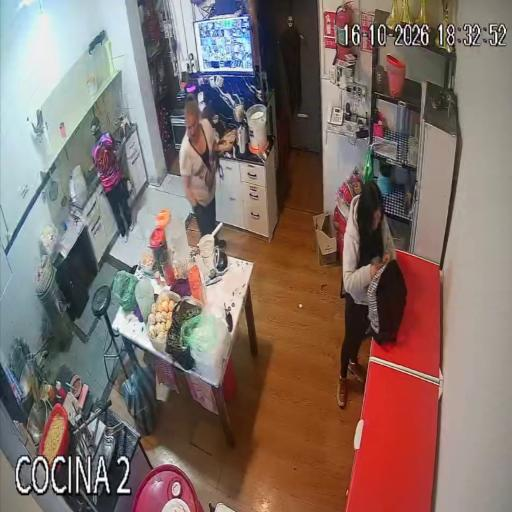Envase Ketchup: (57, 380, 66, 400)
Envase Llajua: (48, 388, 61, 405)
Jarra1: (150, 228, 166, 274)
Jarra2: (156, 209, 172, 244)
Jarra3: (170, 215, 189, 265)
Microondas: (170, 109, 186, 149)
Persona2: (91, 117, 132, 240)
Persona3: (180, 96, 215, 234)
Persona5: (337, 183, 395, 408)
Taper: (40, 225, 60, 261)
Taper2: (166, 296, 203, 370)
Taper3: (190, 304, 230, 384)
Taper4: (146, 290, 182, 352)
olla1: (19, 358, 38, 401)
